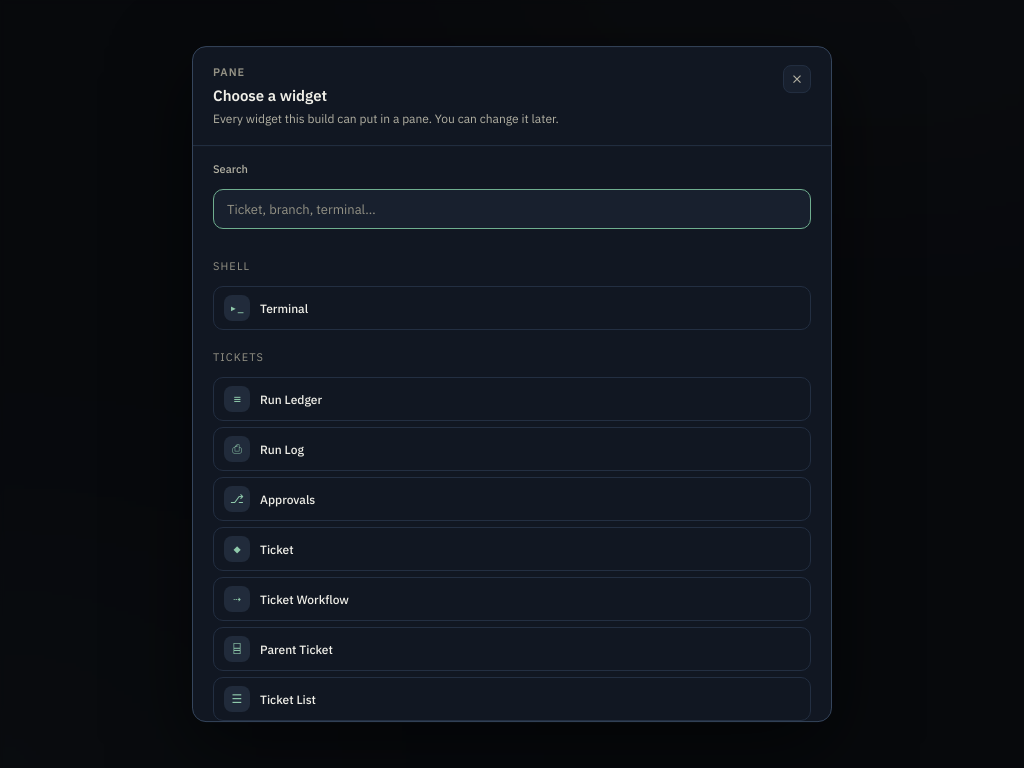
Test: AC4 — search › matches a category as well as a name, and hides the emptied groups
Type "boards" into the search field labelled "Search" at (512, 209), box [213,189,811,229]
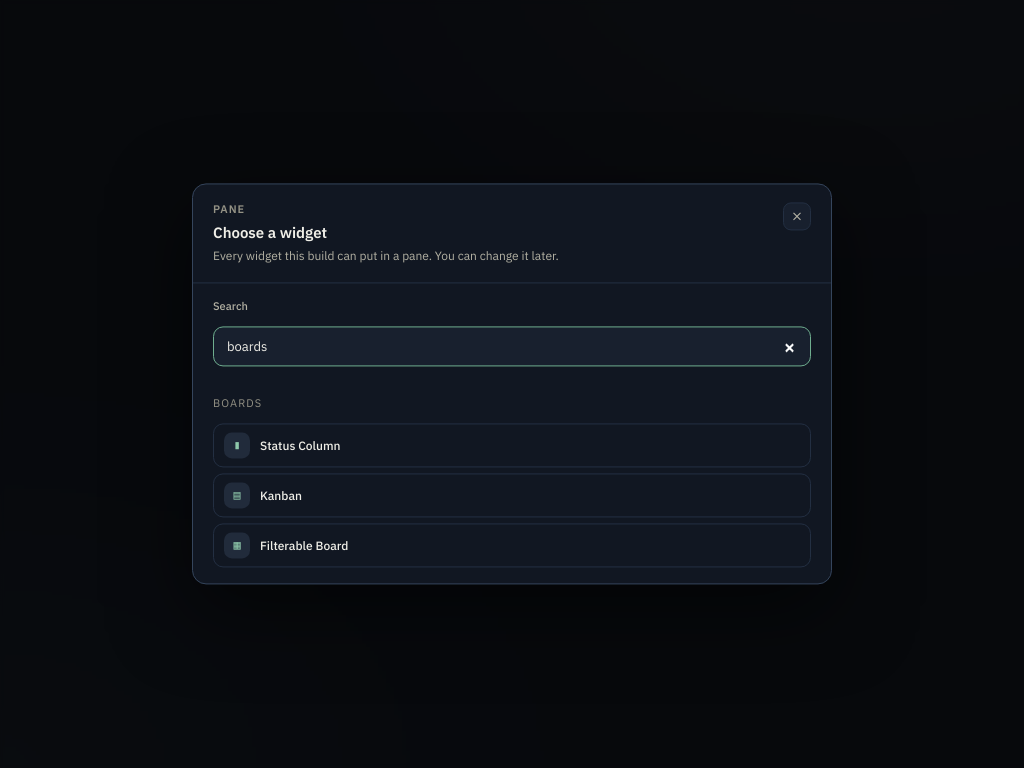
Expected: the number of lists is 1, [213,424,811,568]
